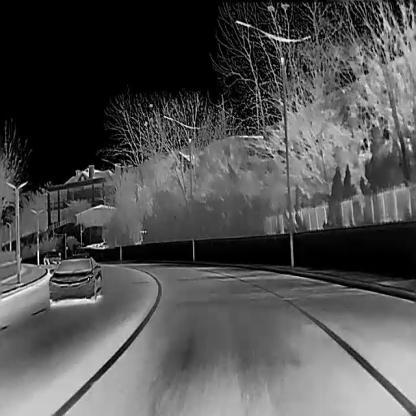car: (46, 255, 103, 303), (43, 250, 61, 264)
